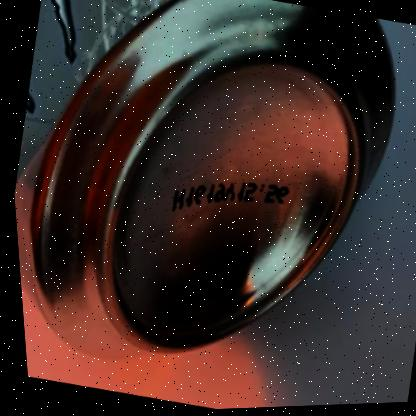Metal: (11, 0, 392, 357)
